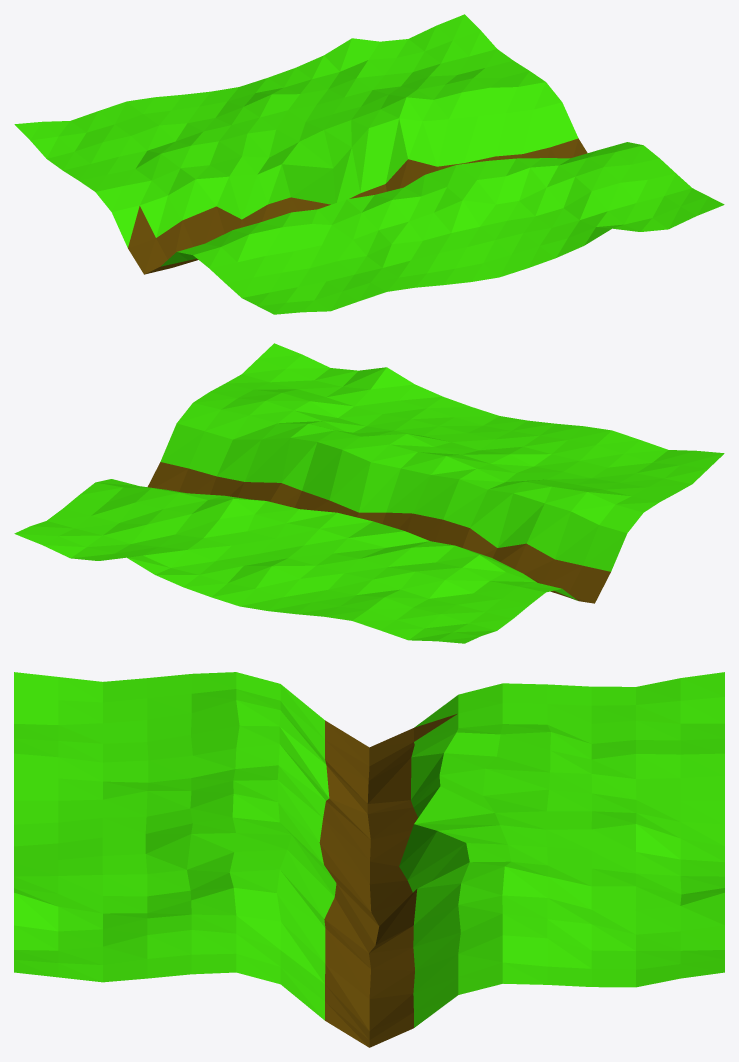
The model's file is oja_bottom_2.fbx.
3 views of the same model, one above another, from view 1: azimuth 30°, elevation 25°; view 2: azimuth 150°, elevation 25°; view 3: azimuth 270°, elevation 25° (orthographic). The views are drawn at different scales.
Parts seen in each view (by area): view 1: oja_B_2; view 2: oja_B_2; view 3: oja_B_2.
Boxes of the visible parts, <box> form: oja_B_2: <box>14,14,724,314</box>; oja_B_2: <box>14,343,724,643</box>; oja_B_2: <box>14,672,724,1047</box>.
Bounding box in the file's own units: 2000 × 341 × 2000.
